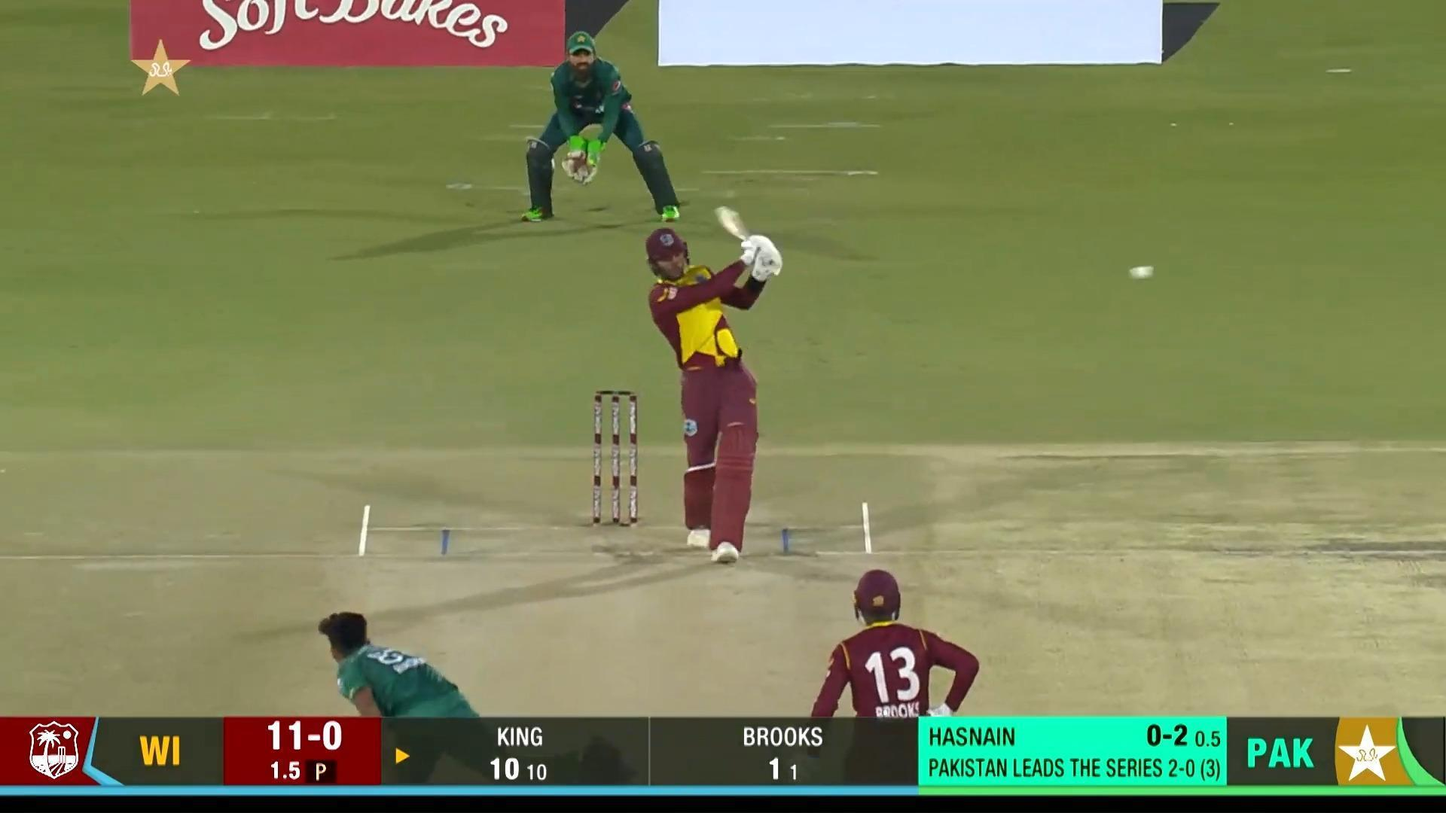BM 1: (645, 202, 785, 565)
BO: (315, 609, 584, 813)
